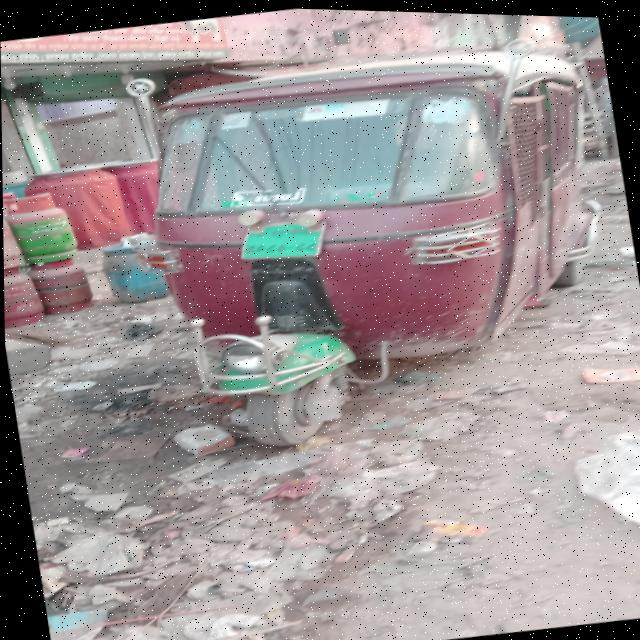cng: (86, 2, 640, 477)
